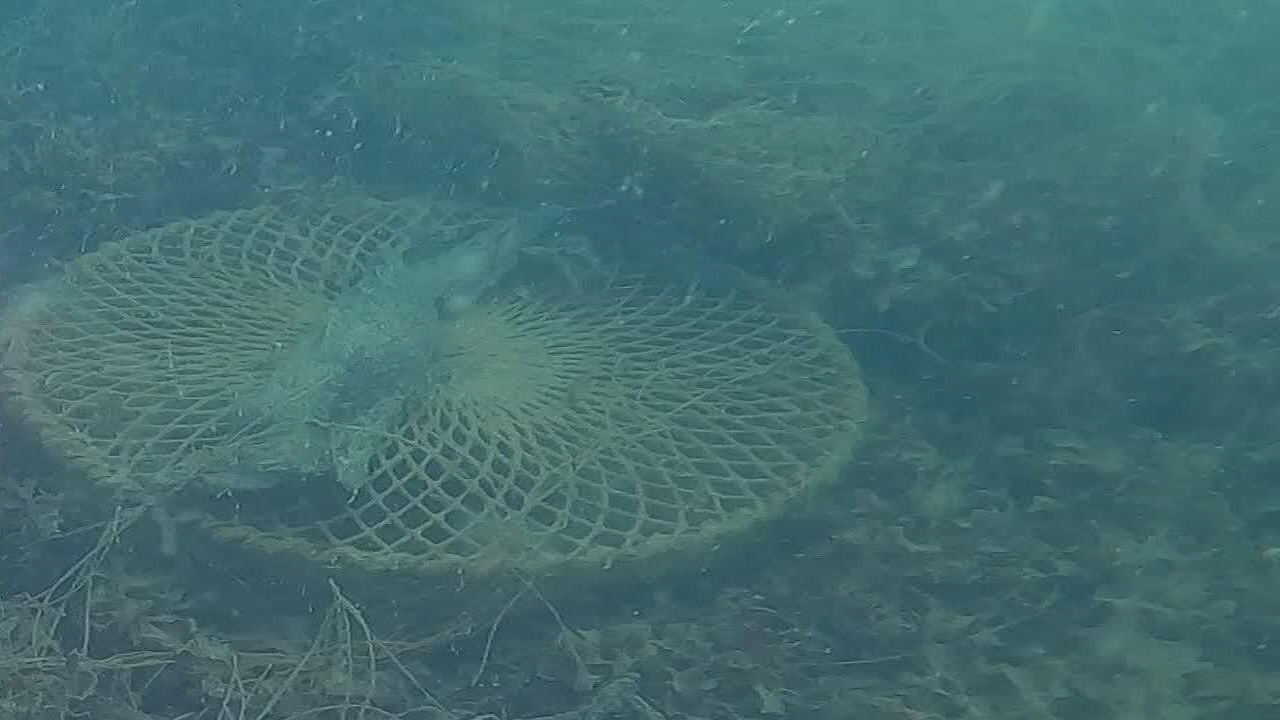circular fish trap: (0, 194, 872, 581)
